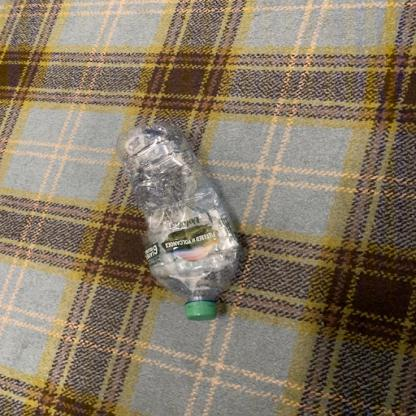plastic-bottles: (103, 126, 252, 321)
